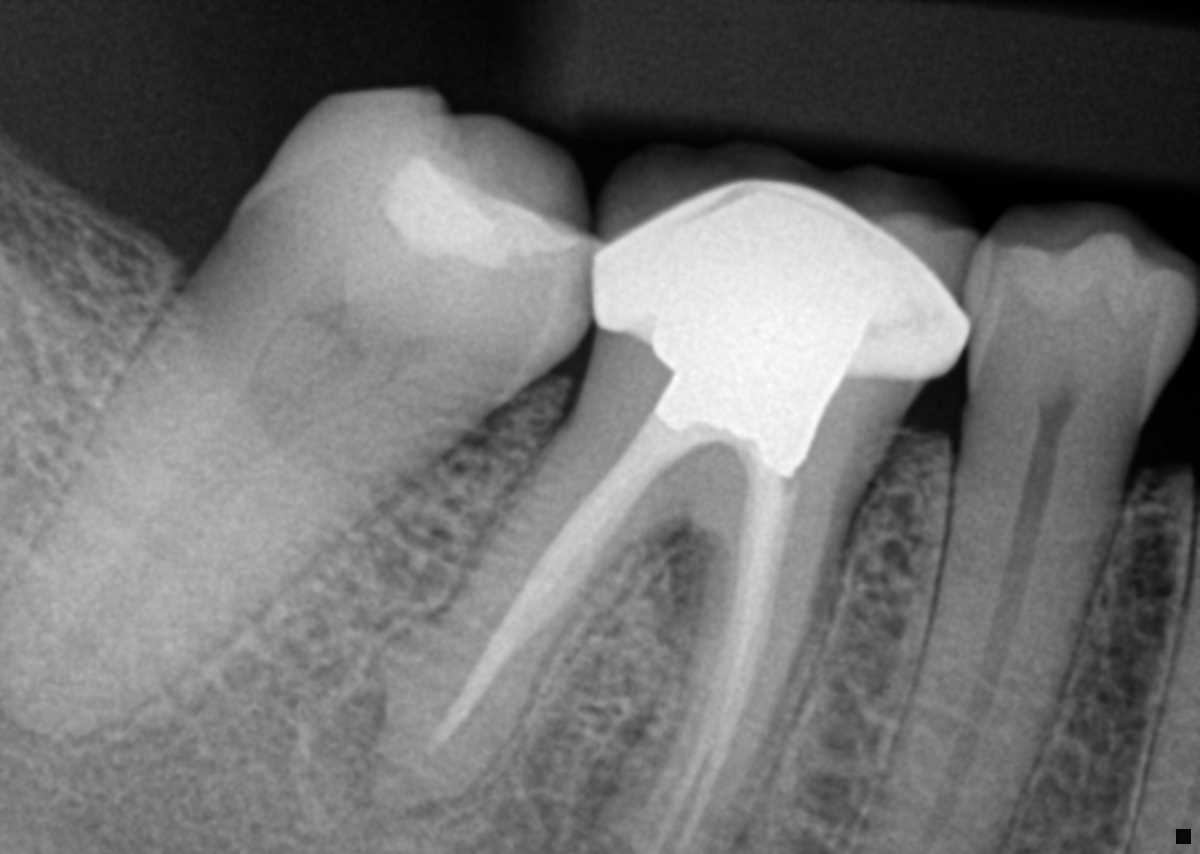Apical Lesion: (298, 674, 475, 848), (567, 713, 649, 854)
Distal Root: (372, 404, 671, 809)
Main Canal: (12, 391, 308, 714), (911, 473, 1058, 853)
Main Root: (0, 260, 483, 738), (852, 451, 1125, 854), (1124, 515, 1200, 854)
Mesial Root: (604, 531, 848, 854)
Root Canal Filling: (422, 409, 689, 753), (652, 467, 802, 852)
